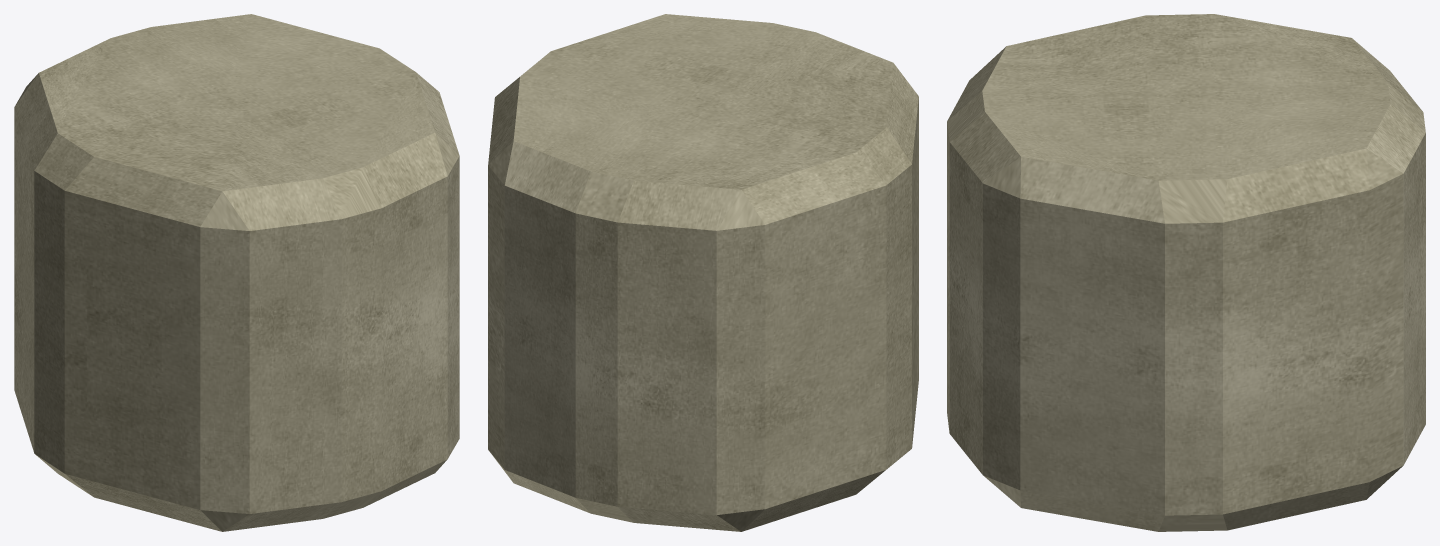
File: OSDEViejo-OLD.gltf
3 views of the same model, side by side, from view 1: azimuth 30°, elevation 25°; view 2: azimuth 150°, elevation 25°; view 3: azimuth 270°, elevation 25° (orthographic). The views are drawn at different scales.
Parts seen in each view (by area): view 1: OSDEViejo; view 2: OSDEViejo; view 3: OSDEViejo.
Part boxes in pixels (bbox=[...]): OSDEViejo: bbox=[14, 14, 459, 531]; OSDEViejo: bbox=[488, 14, 918, 531]; OSDEViejo: bbox=[947, 14, 1425, 531].
Size of the model in its own units: 0.6445 by 0.5457 by 0.6741.
Materials: 1 (1 with a texture image).
